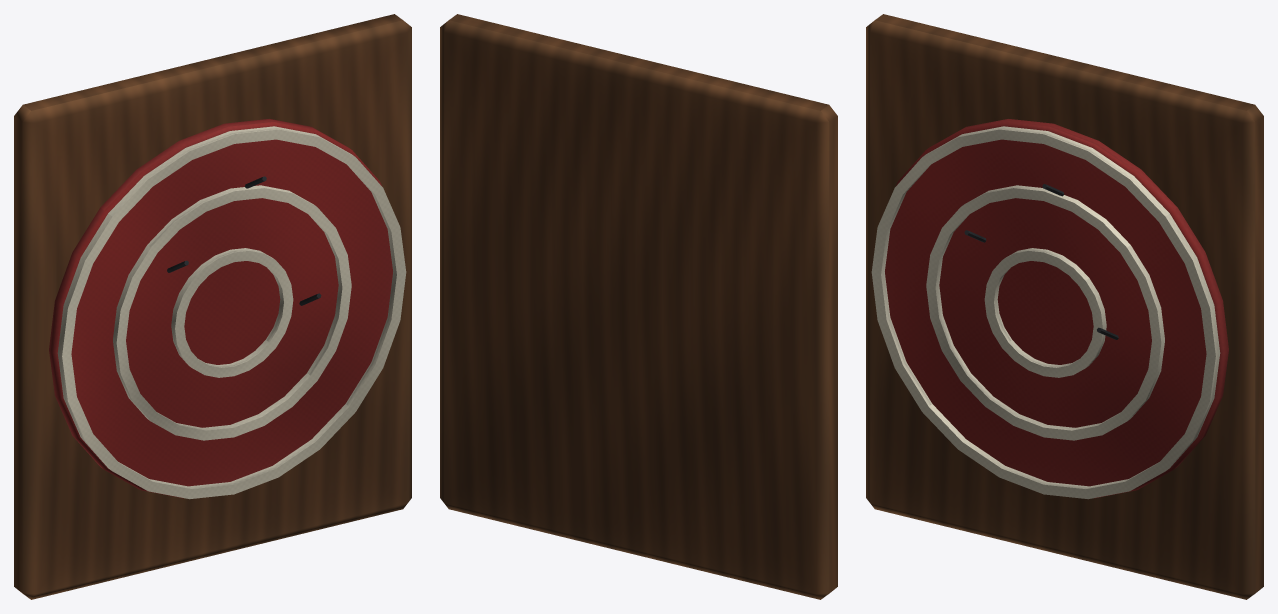
Rendered from Furn_Life_DartBoard.fbx.
3 renders of one model, left to right at view 1: azimuth 30°, elevation 25°; view 2: azimuth 150°, elevation 25°; view 3: azimuth 330°, elevation 25°, orthographic.
Visible parts, largest first — view 1: Furn_Life_DartBoard; view 2: Furn_Life_DartBoard; view 3: Furn_Life_DartBoard.
Part boxes in pixels (left/top/right/bottom): Furn_Life_DartBoard: left=14, top=14, right=411, bottom=599; Furn_Life_DartBoard: left=440, top=14, right=837, bottom=599; Furn_Life_DartBoard: left=866, top=14, right=1263, bottom=599.
Size of the model in its own units: 0.5 by 0.6 by 0.1.
4 materials, 4 textured.
